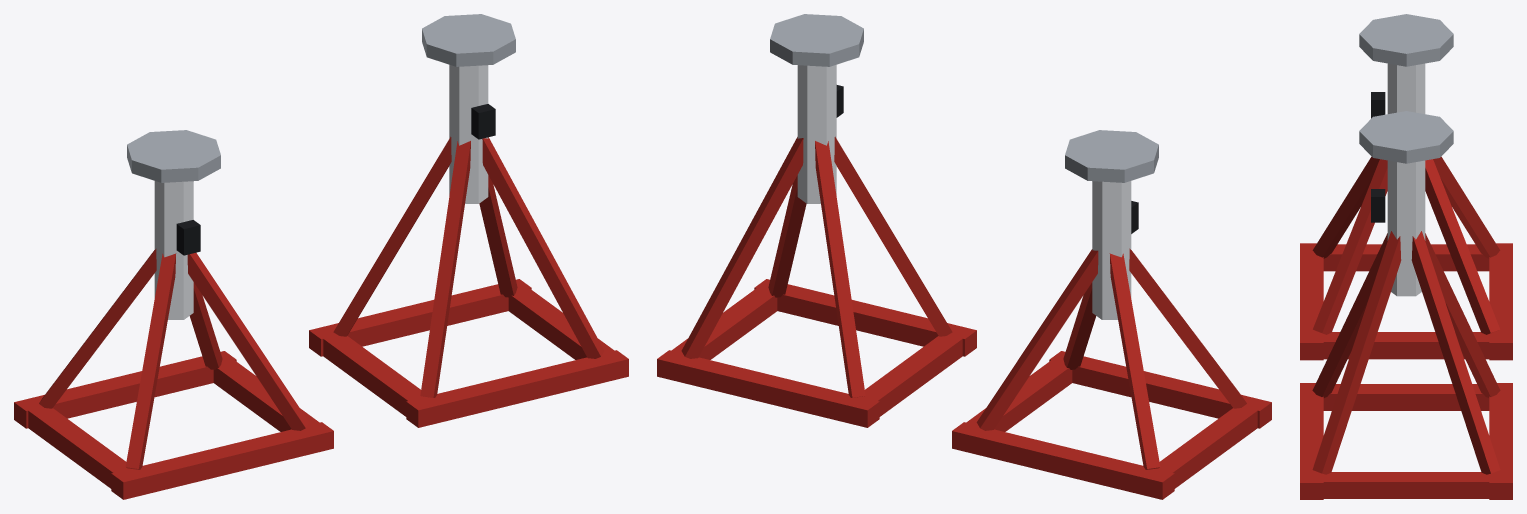
The model's file is engtool_jack_stands.glb.
3 views of the same model, side by side, from view 1: azimuth 30°, elevation 25°; view 2: azimuth 150°, elevation 25°; view 3: azimuth 270°, elevation 25° (orthographic). The views are drawn at different scales.
Parts seen in each view (by area): view 1: engtool_jack_stands; view 2: engtool_jack_stands; view 3: engtool_jack_stands.
Boxes of the visible parts, x1=… form: engtool_jack_stands: x1=14, y1=14, x2=628, y2=499; engtool_jack_stands: x1=657, y1=14, x2=1271, y2=499; engtool_jack_stands: x1=1300, y1=14, x2=1512, y2=499.
Size of the model in its own units: 1.2 by 0.745 by 0.45.
